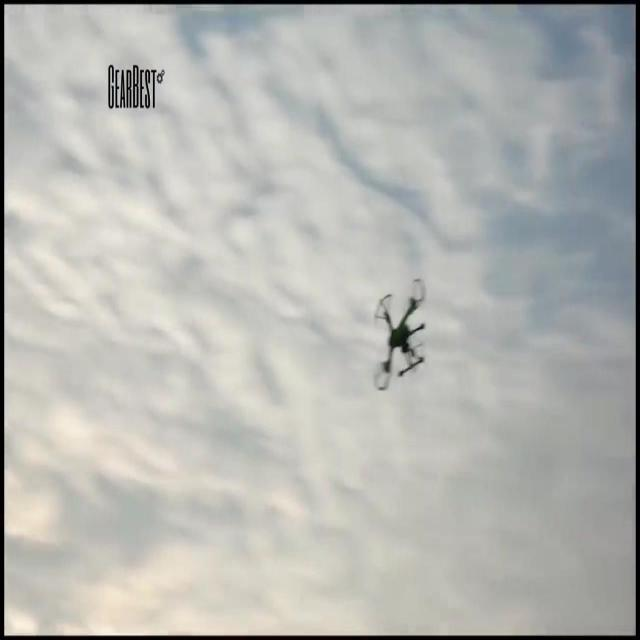UAV: (374, 278, 426, 390)
